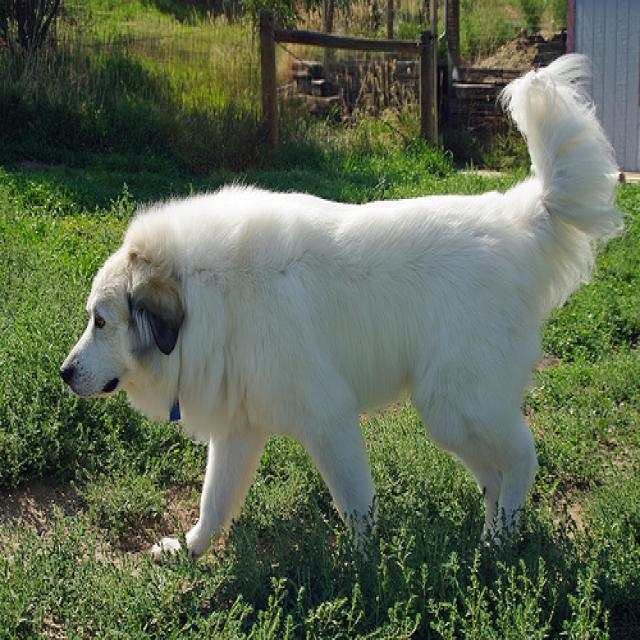dog-great_pyrenees: (51, 50, 617, 554)
